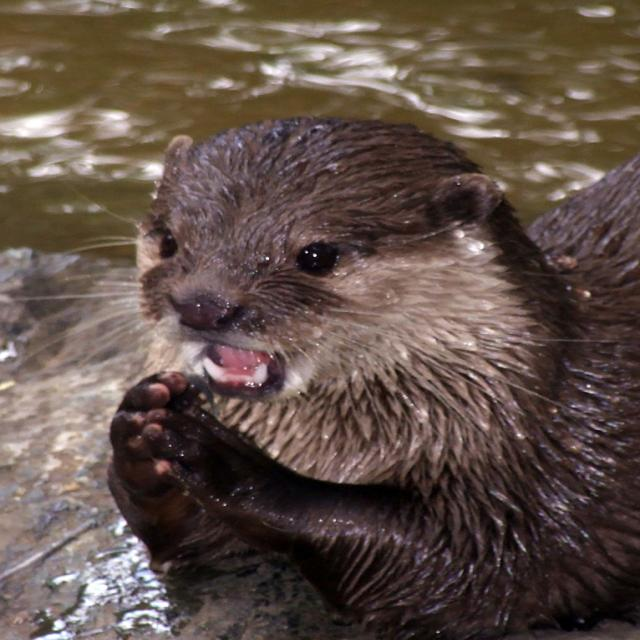otter: (113, 114, 640, 638)
